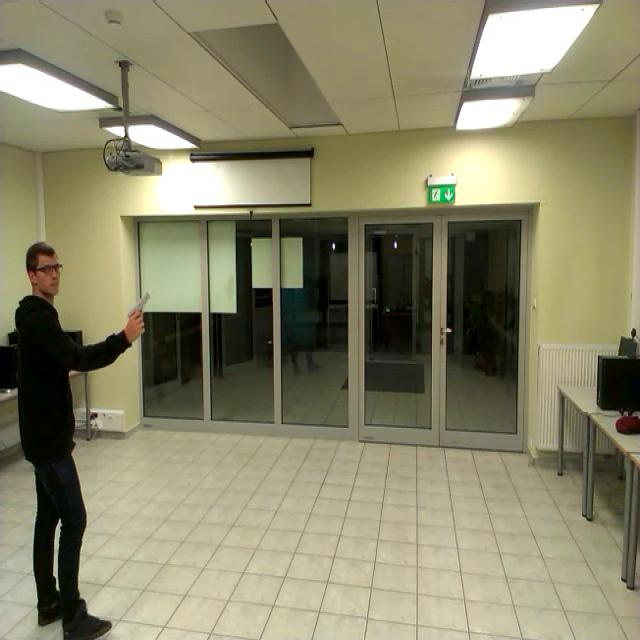handgun: (122, 284, 157, 348)
